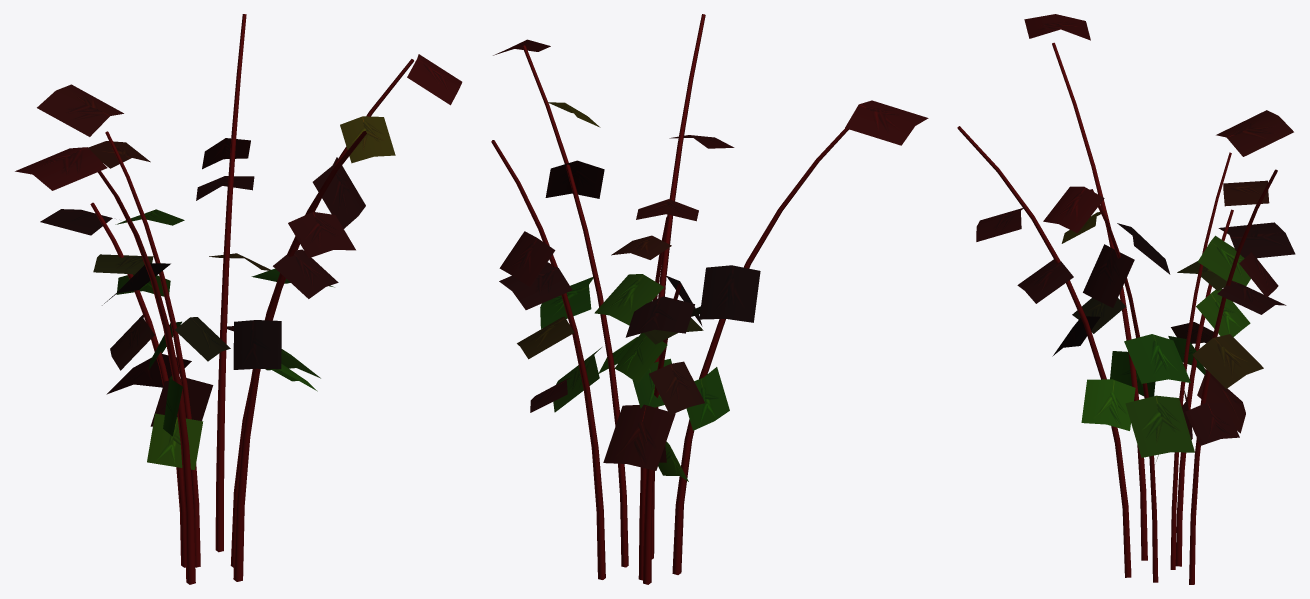
Rendered from veg_bamboo1_card.glb.
3 renders of one model, left to right at view 1: azimuth 30°, elevation 25°; view 2: azimuth 150°, elevation 25°; view 3: azimuth 270°, elevation 25°, orthographic. The views are drawn at different scales.
Parts seen in each view (by area): view 1: bamboo_1; view 2: bamboo_1; view 3: bamboo_1.
Boxes of the visible parts, x1,y1,x2,y2 form: bamboo_1: (15,14,462,584); bamboo_1: (491,14,928,584); bamboo_1: (957,14,1295,584).
Size of the model in its own units: 8.67 by 9.49 by 6.25.
Materials: 2 (1 with a texture image).
